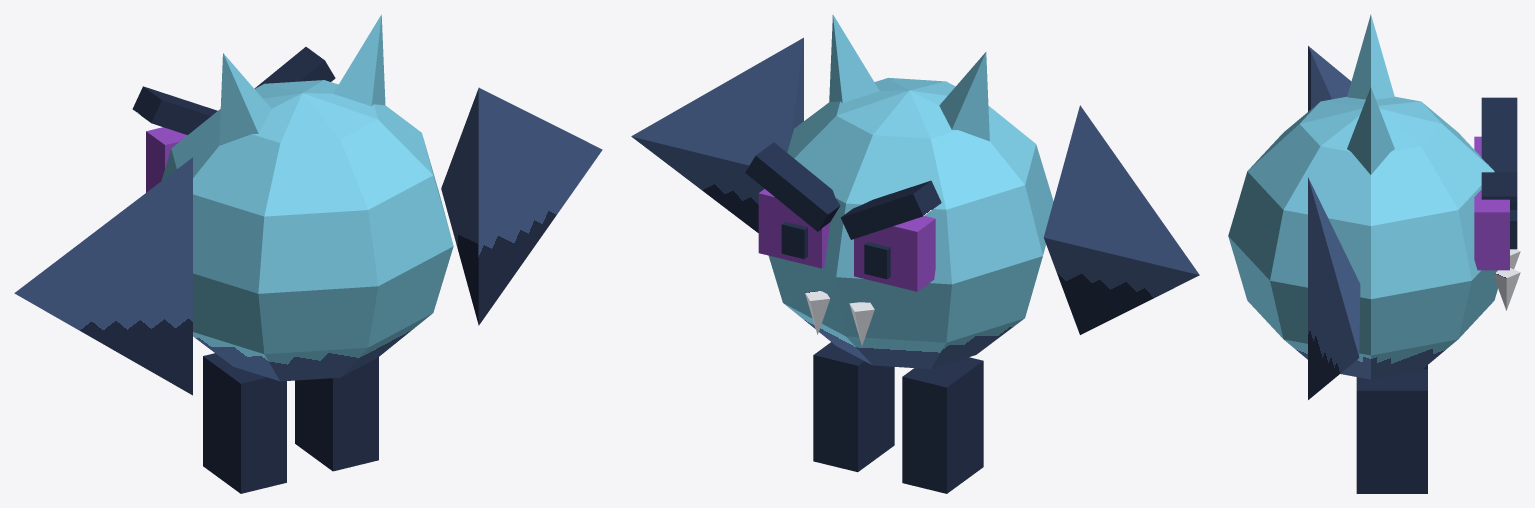
Rendered from zoomer.glb.
3 views of the same model, side by side, from view 1: azimuth 30°, elevation 25°; view 2: azimuth 150°, elevation 25°; view 3: azimuth 270°, elevation 25° (orthographic). The views are drawn at different scales.
Visible parts, largest first — view 1: zoomer; view 2: zoomer; view 3: zoomer.
Boxes of the visible parts, bbox=[...] form: zoomer: bbox=[14, 14, 602, 493]; zoomer: bbox=[631, 14, 1199, 493]; zoomer: bbox=[1228, 14, 1520, 493].
Bounding box in the file's own units: 0.8952 × 0.6369 × 0.41.
1 material, 1 textured.
